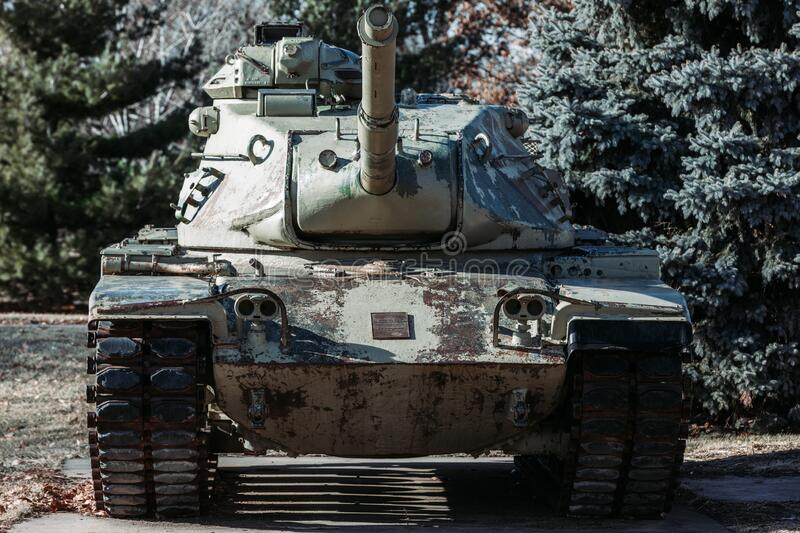m60: (92, 9, 681, 520)
